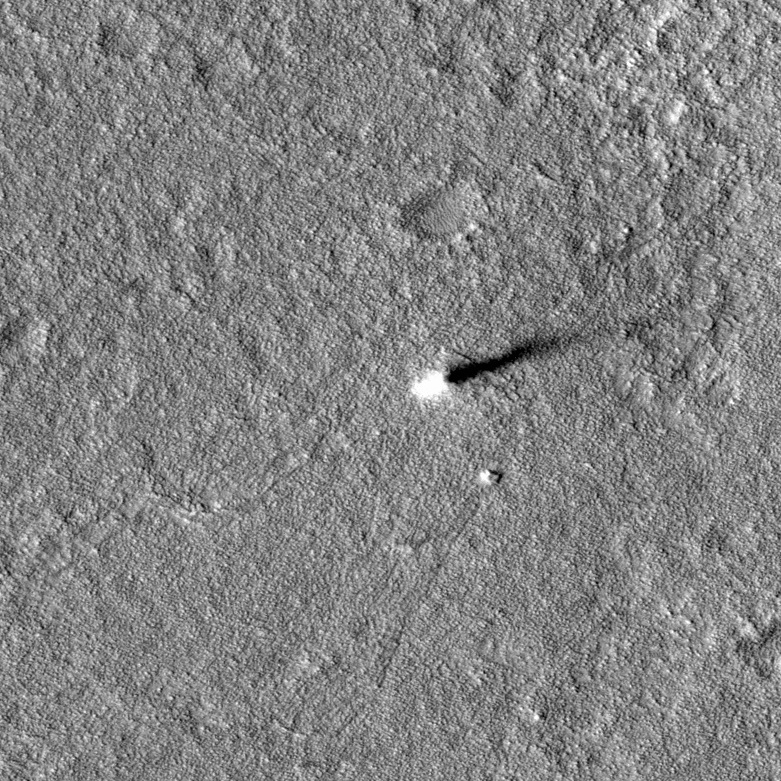dust_devil: (406, 330, 579, 403)
